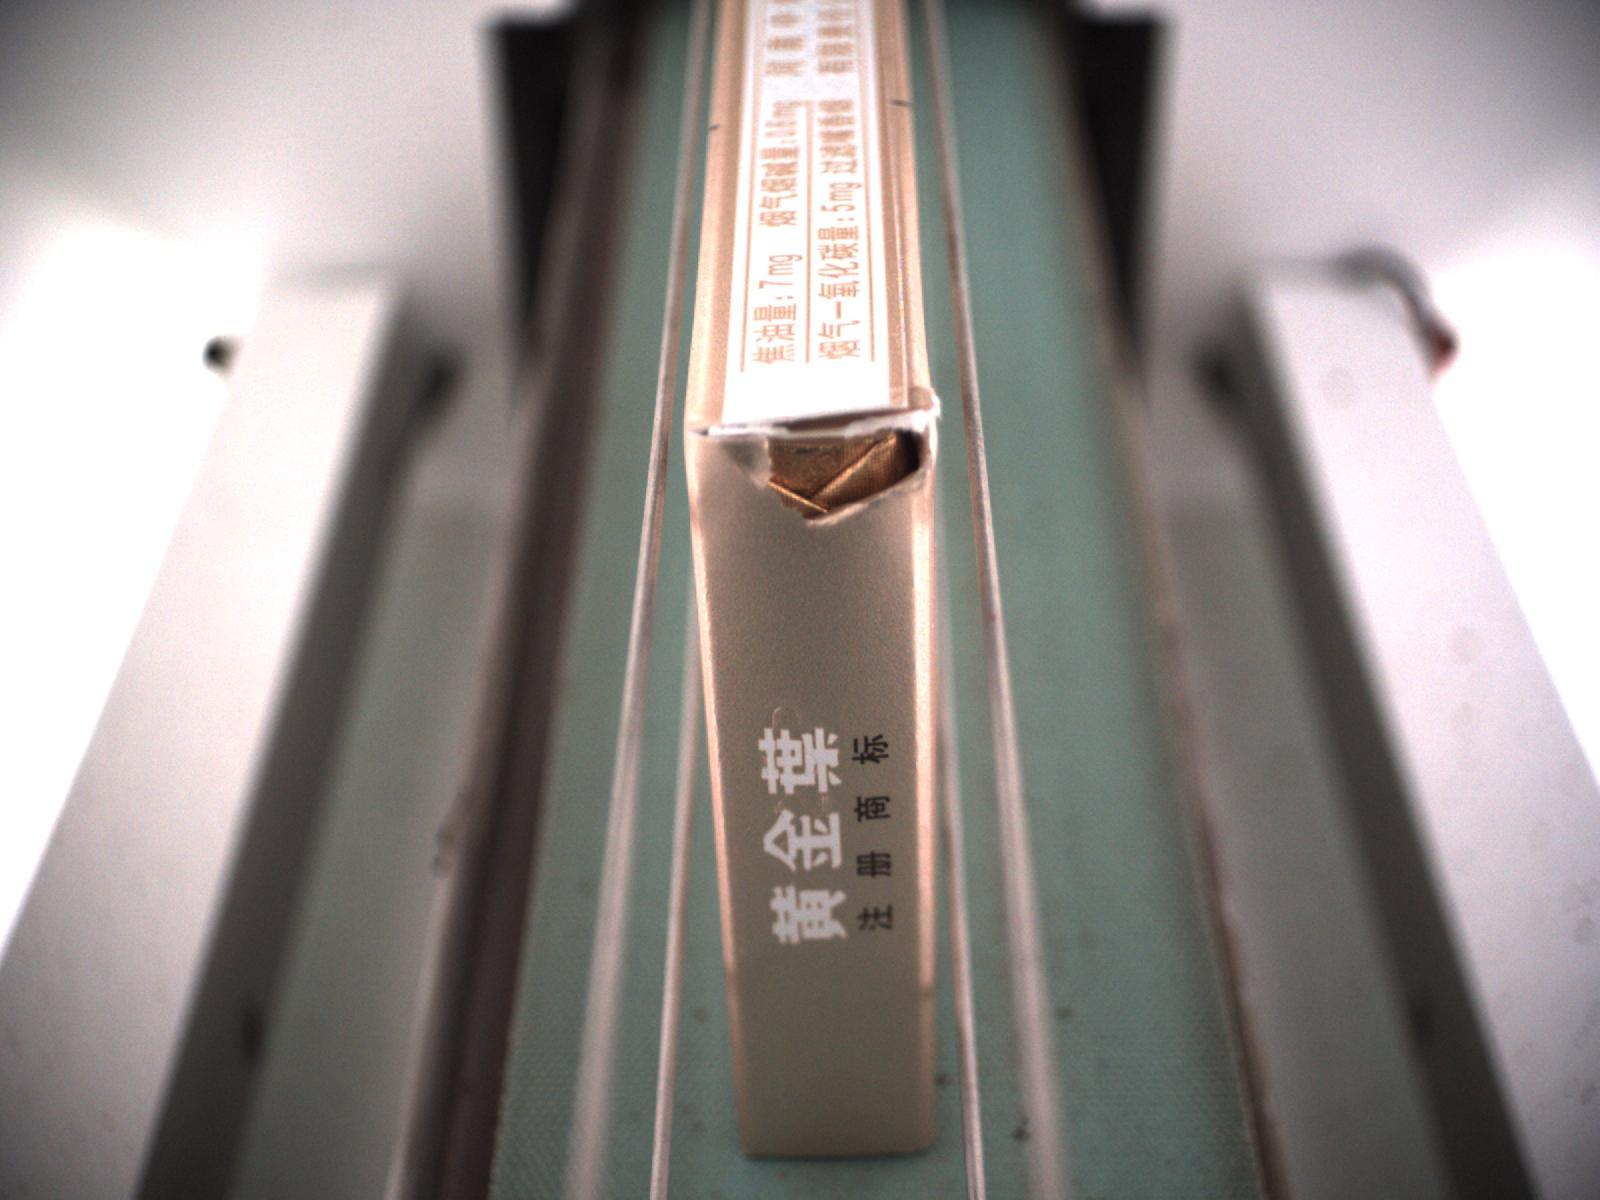cornerBreak: (684, 389, 945, 528)
